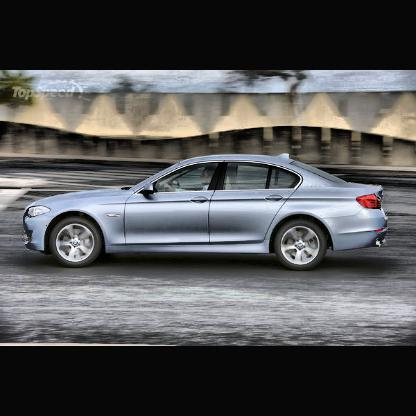BMW ActiveHybrid 5 Sedan 2012: (20, 147, 400, 273)
